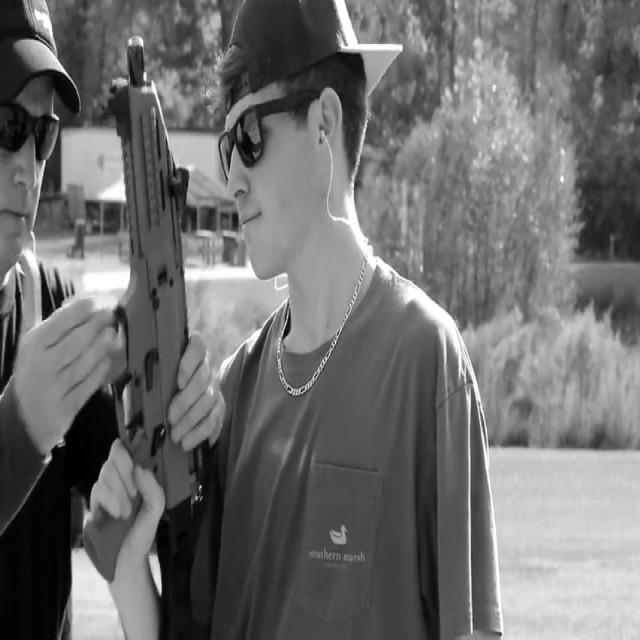Sub-machine-gun: (31, 0, 275, 640)
